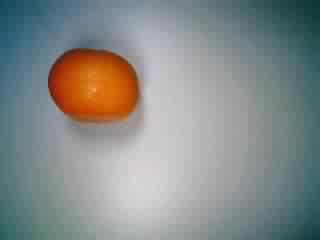orange: (46, 42, 147, 124)
